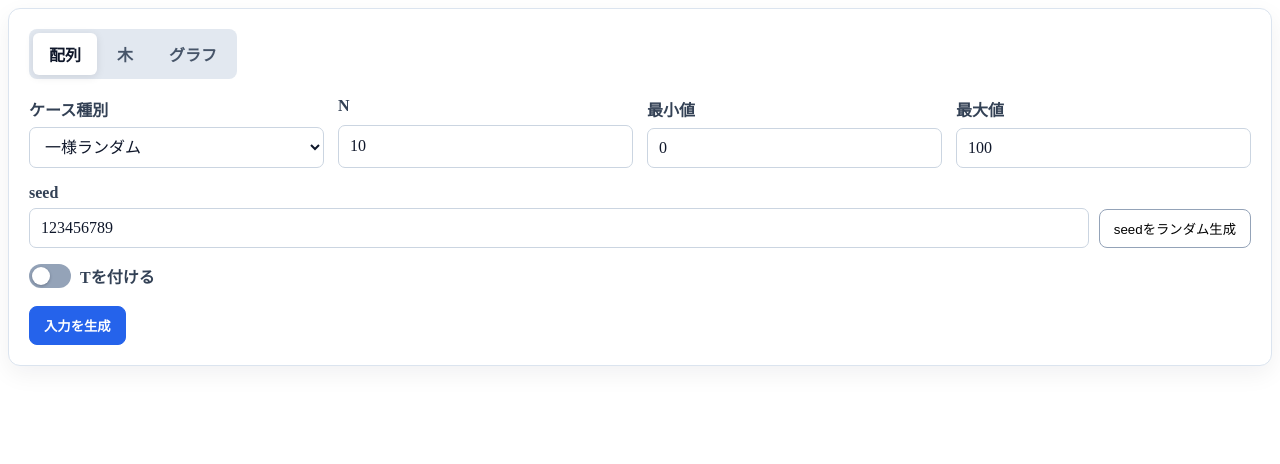
it: uses one segmented structure choice and accessible boolean switches
Check: the radio button labelled "配列" is checked, box [33, 33, 97, 75]
Step 1. Click the radio button labelled "グラフ" → (193, 56), box [169, 47, 217, 64]
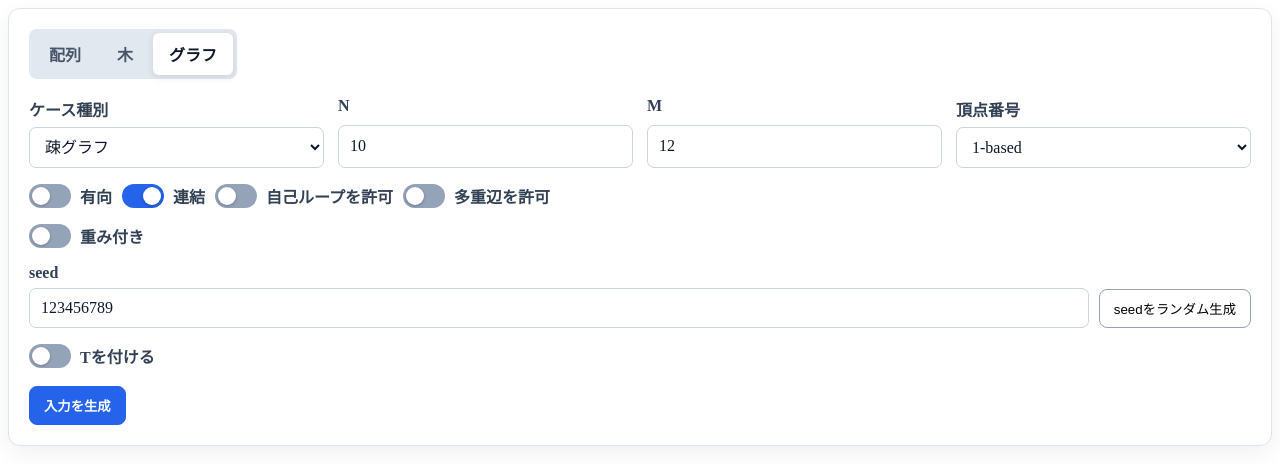
Check: the radio button labelled "グラフ" is checked, box [153, 33, 233, 75]
Check: the switch labelled "有向" is shown, box [29, 184, 112, 208]
Check: the switch labelled "連結" is checked, box [122, 184, 205, 208]
